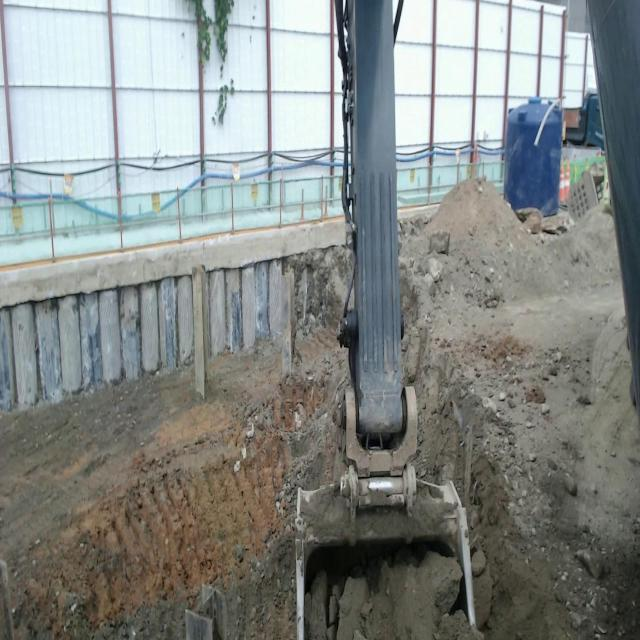white-sand: (400, 180, 640, 639), (0, 328, 347, 639), (305, 546, 483, 639)
